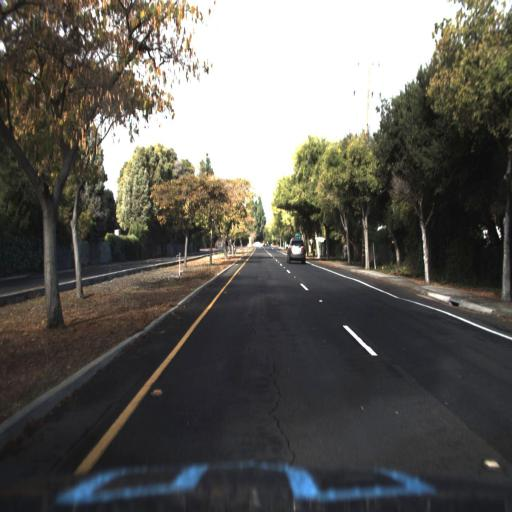car: (284, 235, 310, 265)
